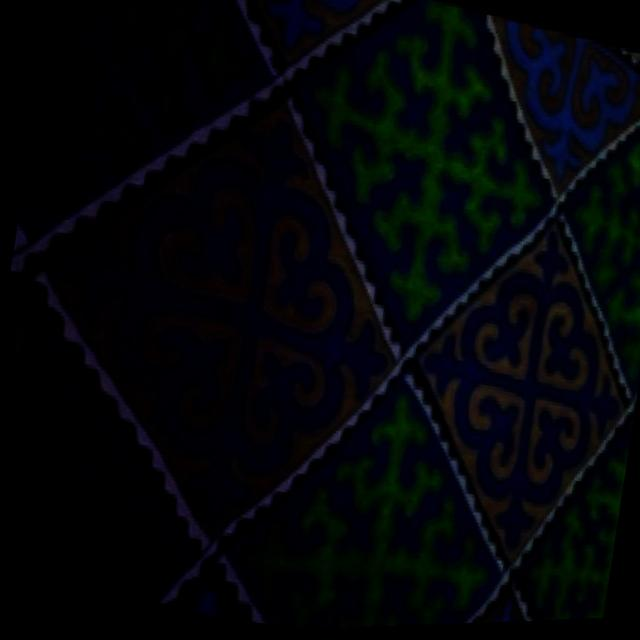Unity: (49, 106, 390, 539), (417, 226, 623, 552), (491, 10, 640, 190)
